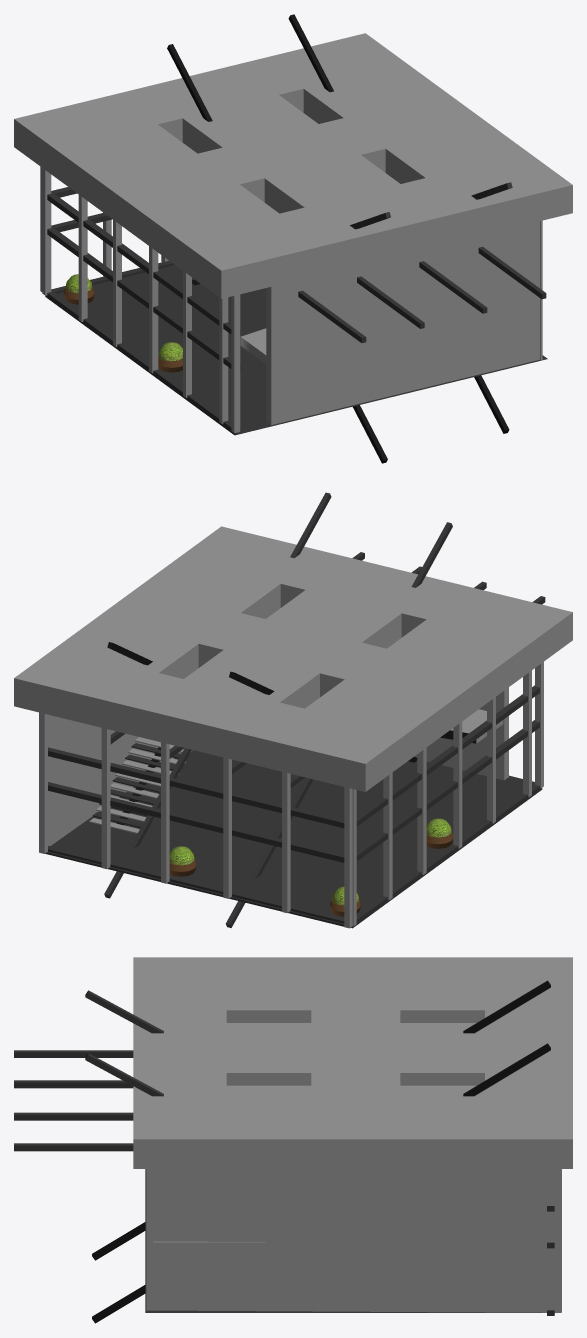
File: room.obj
3 views of the same model, one above another, from view 1: azimuth 30°, elevation 25°; view 2: azimuth 150°, elevation 25°; view 3: azimuth 270°, elevation 25° (orthographic). The views are drawn at different scales.
Parts seen in each view (by area): view 1: Box059, Box002, Plane001, Box060, Box055, Box054, Box052, Box069, Box067, Box050, Box051, Box046 (+8 smaller); view 2: Box059, Plane001, Box001, Box053, Box056, Box061, Box002, Box060, Box055, Box054, Box066, Box068 (+14 smaller); view 3: Box059, Box001, Box069, Box067, Box032, Box062, Box063, Box064, Plane001, Box065, Box066, Box068.
Part boxes in pixels (x1,y1,x2,y2): Box059: (14, 33, 572, 298); Box002: (266, 221, 539, 425); Plane001: (57, 265, 547, 434); Box060: (45, 290, 240, 435); Box055: (47, 192, 240, 335); Box054: (47, 226, 240, 370); Box052: (231, 294, 240, 433); Box069: (167, 44, 387, 463); Box067: (288, 14, 509, 433); Box050: (78, 195, 87, 321); Box051: (42, 168, 51, 295); Box046: (219, 297, 228, 424); Box059: (14, 526, 572, 791); Plane001: (47, 750, 534, 924); Box001: (39, 713, 181, 851); Box053: (48, 782, 344, 862); Box056: (48, 747, 344, 828); Box061: (45, 846, 344, 926); Box002: (414, 687, 508, 780); Box060: (351, 784, 542, 928); Box055: (356, 685, 539, 826); Box054: (356, 720, 539, 861); Box066: (104, 492, 331, 898); Box068: (225, 522, 452, 927); Box059: (133, 957, 572, 1168); Box001: (146, 1169, 561, 1312); Box069: (92, 980, 550, 1260); Box067: (92, 1043, 550, 1323); Box032: (153, 1241, 274, 1251); Box062: (14, 1112, 133, 1120); Box063: (14, 1143, 133, 1151); Box064: (14, 1080, 133, 1088); Plane001: (145, 1169, 541, 1312); Box065: (14, 1050, 133, 1057); Box066: (85, 1053, 554, 1313); Box068: (85, 990, 163, 1033).
Bounding box in the file's own units: 182 × 130 × 236.
Materials: 5 (1 with a texture image).
